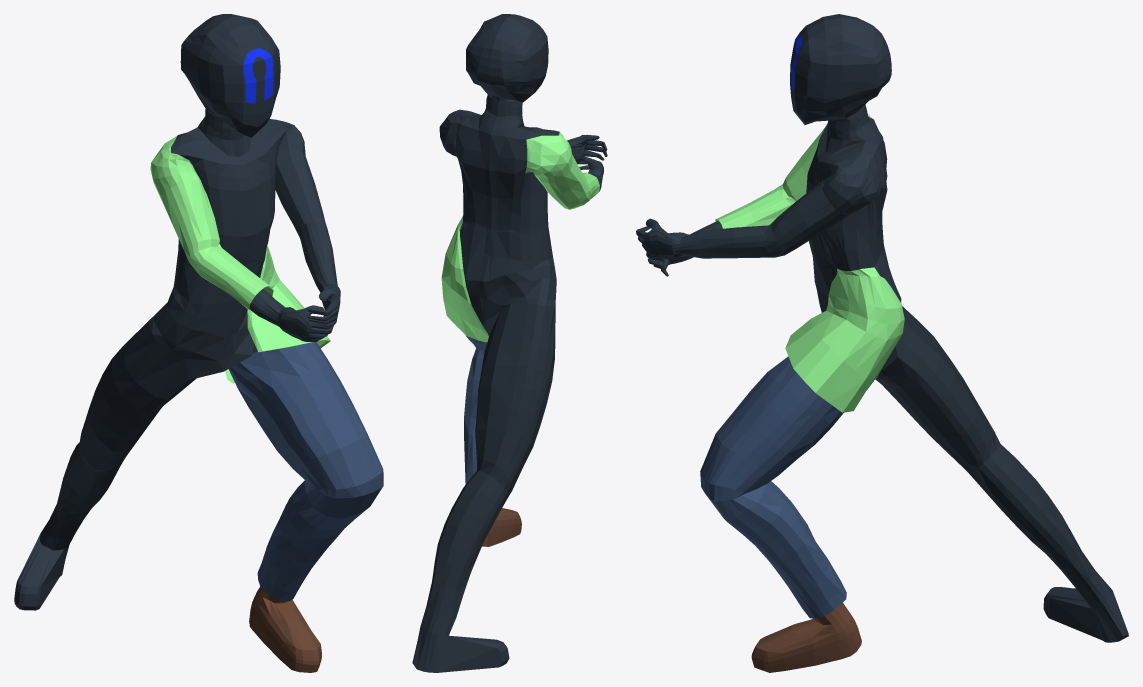
The model's file is Mar_WB_000021.obj.
3 renders of one model, left to right at view 1: azimuth 30°, elevation 25°; view 2: azimuth 150°, elevation 25°; view 3: azimuth 270°, elevation 25°, orthographic. The views are drawn at different scales.
Visible parts, largest first — view 1: Cube.000_Cube.001; view 2: Cube.000_Cube.001; view 3: Cube.000_Cube.001.
Boxes of the visible parts, x1,y1,x2,y2 form: Cube.000_Cube.001: (14,14,383,672); Cube.000_Cube.001: (412,14,607,672); Cube.000_Cube.001: (636,14,1128,672).
Size of the model in its own units: 1.13 by 3.55 by 2.46.
